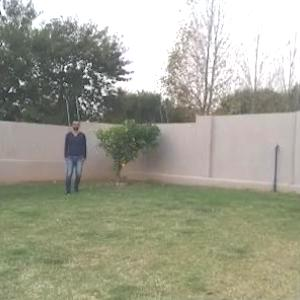follow: (65, 117, 84, 195)
